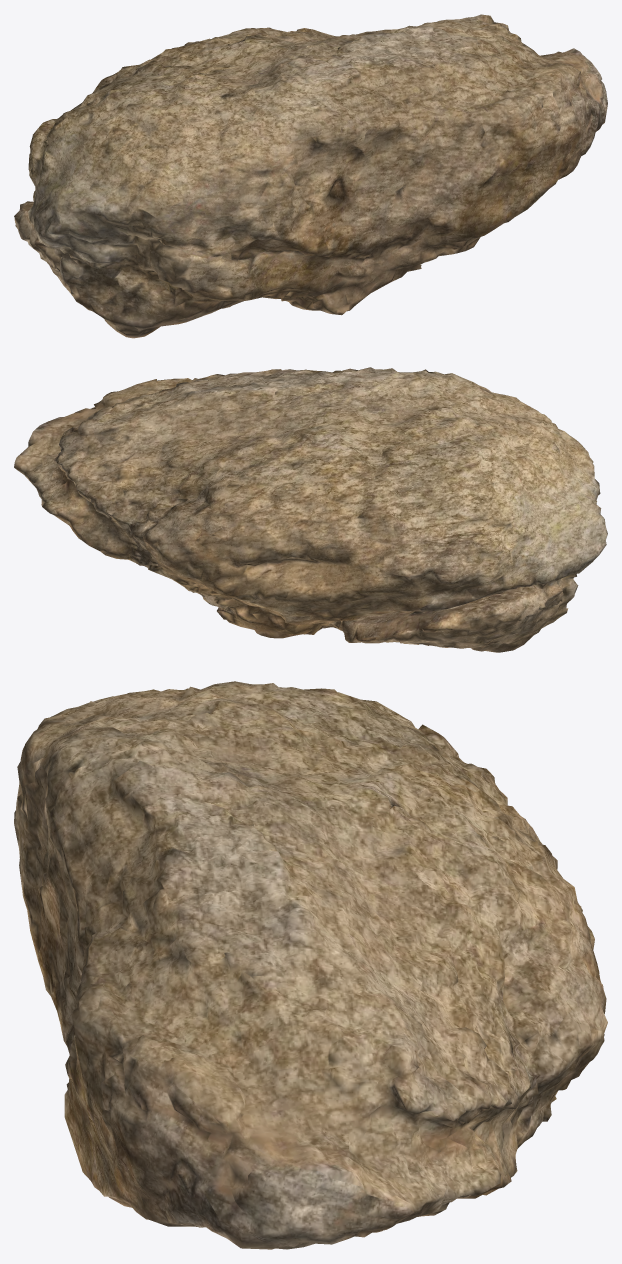
File: namaqualand_boulder_05.glb
The picture shows the model from 3 angles, top to bottom: view 1: azimuth 30°, elevation 25°; view 2: azimuth 150°, elevation 25°; view 3: azimuth 270°, elevation 25°; orthographic projection. The views are drawn at different scales.
Parts seen in each view (by area): view 1: namaqualand_boulder_05; view 2: namaqualand_boulder_05; view 3: namaqualand_boulder_05.
Part boxes in pixels (box(x1,y1,x2,y2)): namaqualand_boulder_05: box(14, 14, 607, 338); namaqualand_boulder_05: box(14, 367, 607, 652); namaqualand_boulder_05: box(14, 681, 607, 1249).
Bounding box in the file's own units: 1.36 × 0.5339 × 0.7481.
1 material, 1 textured.
